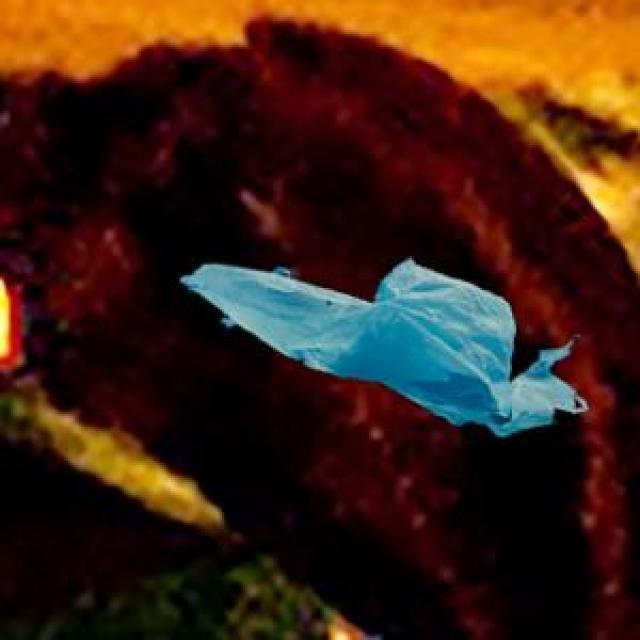waste: (181, 259, 586, 437)
